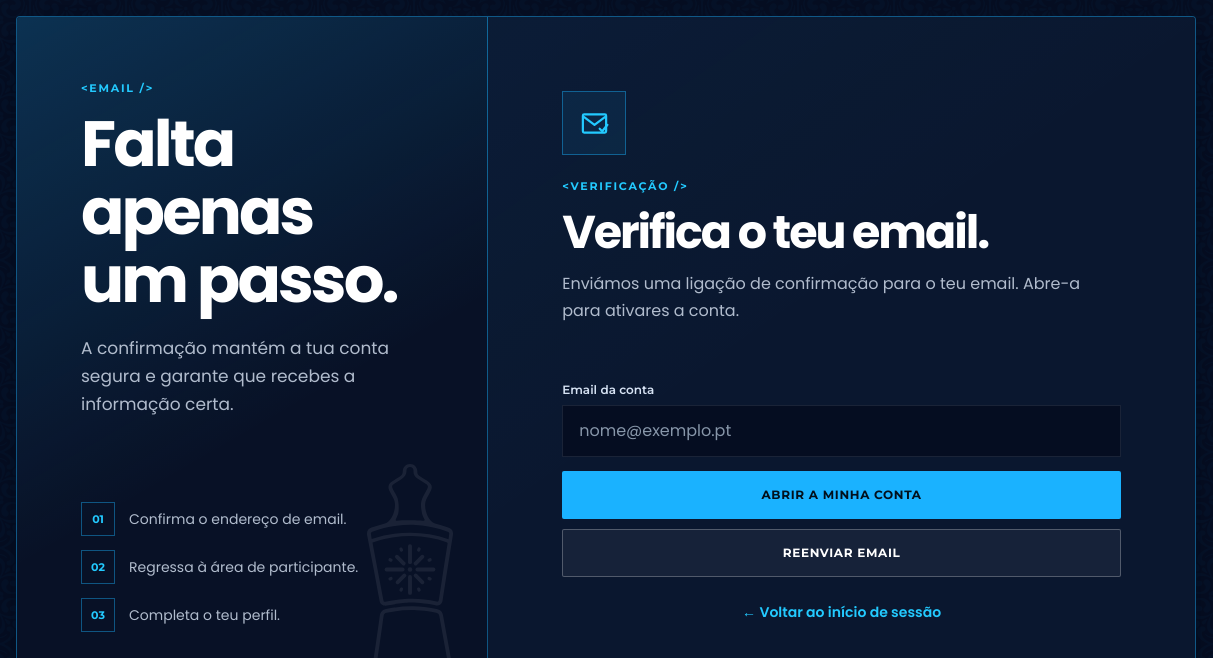
Test: Verificar email (reenvio): estados comuns › 429: mostra o tempo de espera do Retry-After
This screenshot has width=1213, height=658.
Type "ana@example.com" into the field labelled "Email da conta". click: x=842, y=431
box: [562, 405, 1121, 457]
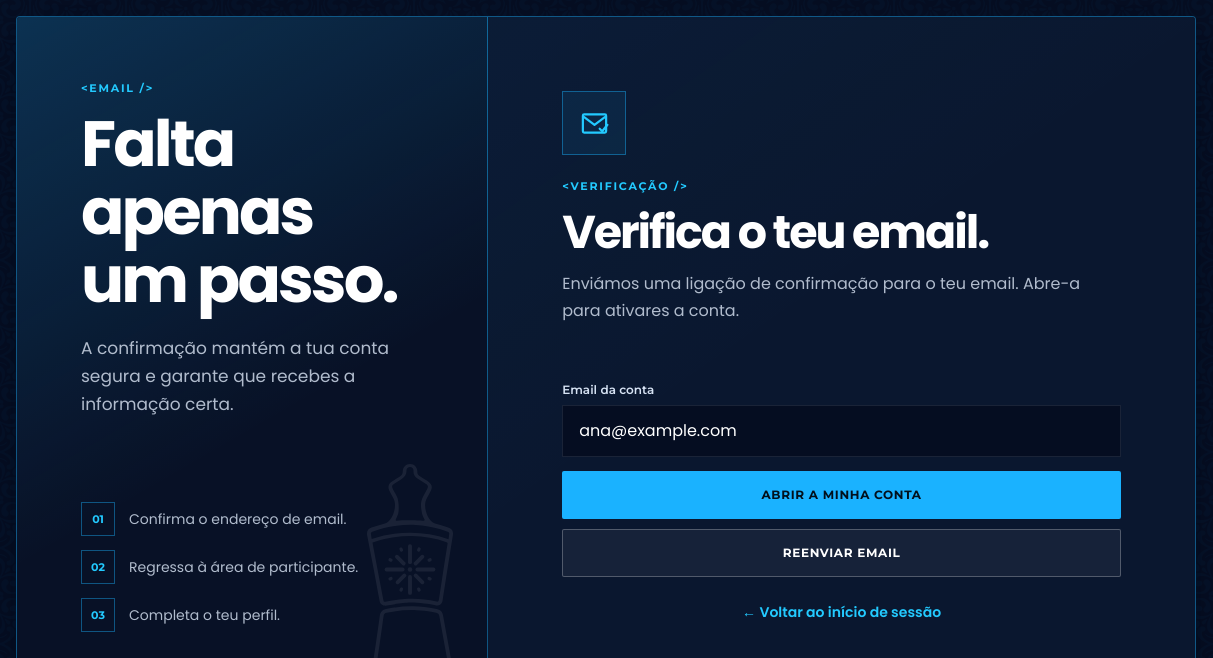
Click the button "Reenviar email". click: x=842, y=553
box: [562, 529, 1121, 577]
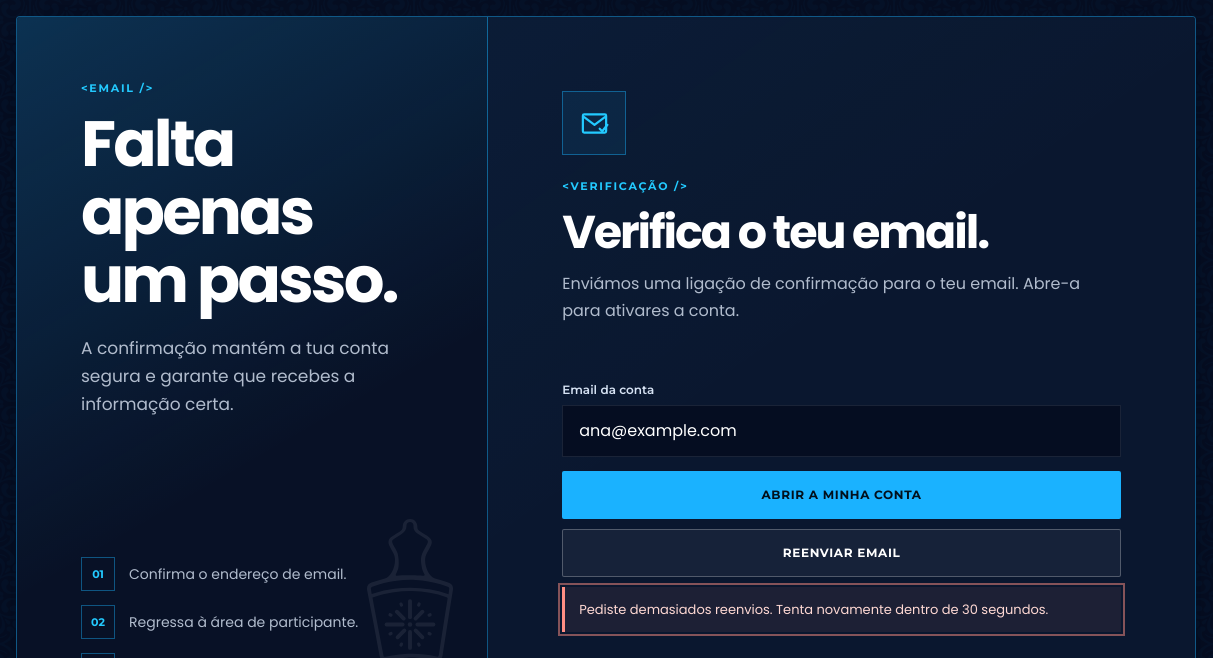
Expected: the message "Pediste demasiados reenvios. Tenta novamente dentro de 30 segundos." is shown, [562, 587, 1121, 632]
